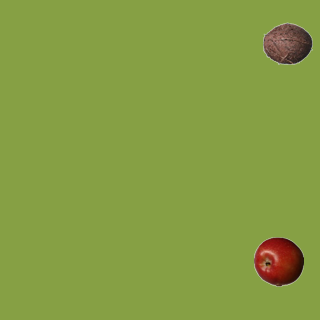Apple Braeburn: (253, 236, 303, 286)
Cocos: (262, 18, 312, 68)
